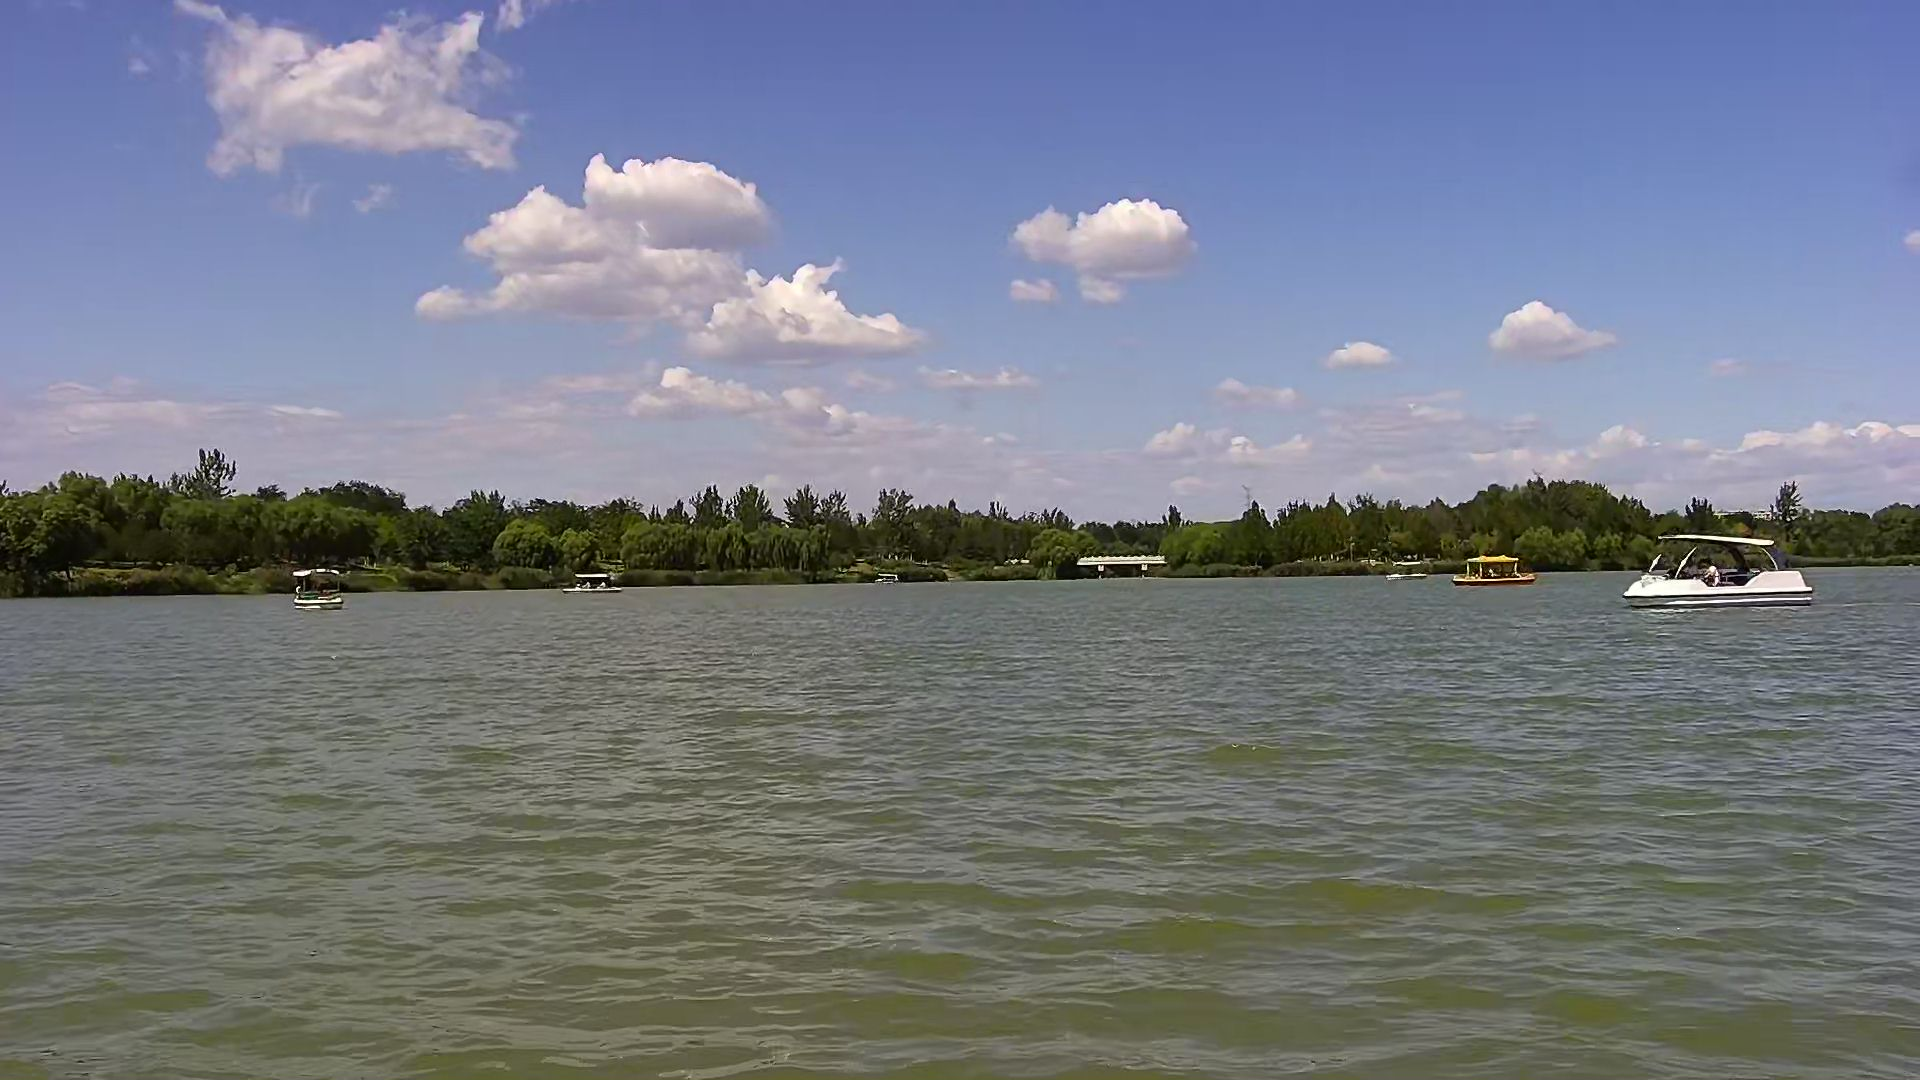boat: (1622, 535, 1812, 601), (286, 567, 340, 612), (1455, 556, 1530, 587), (568, 574, 618, 595), (1385, 558, 1425, 579)
bridge: (1083, 553, 1163, 579)
